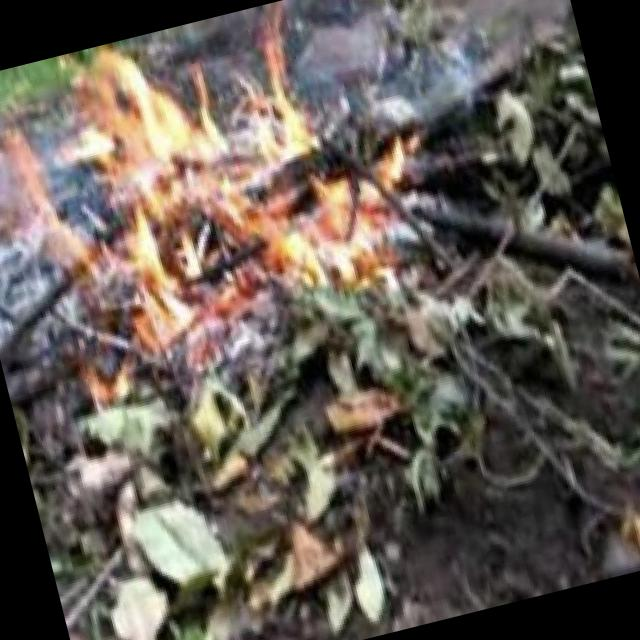Fire: (0, 0, 462, 436)
